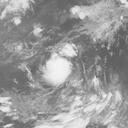cyclone: (38, 43, 85, 91)
